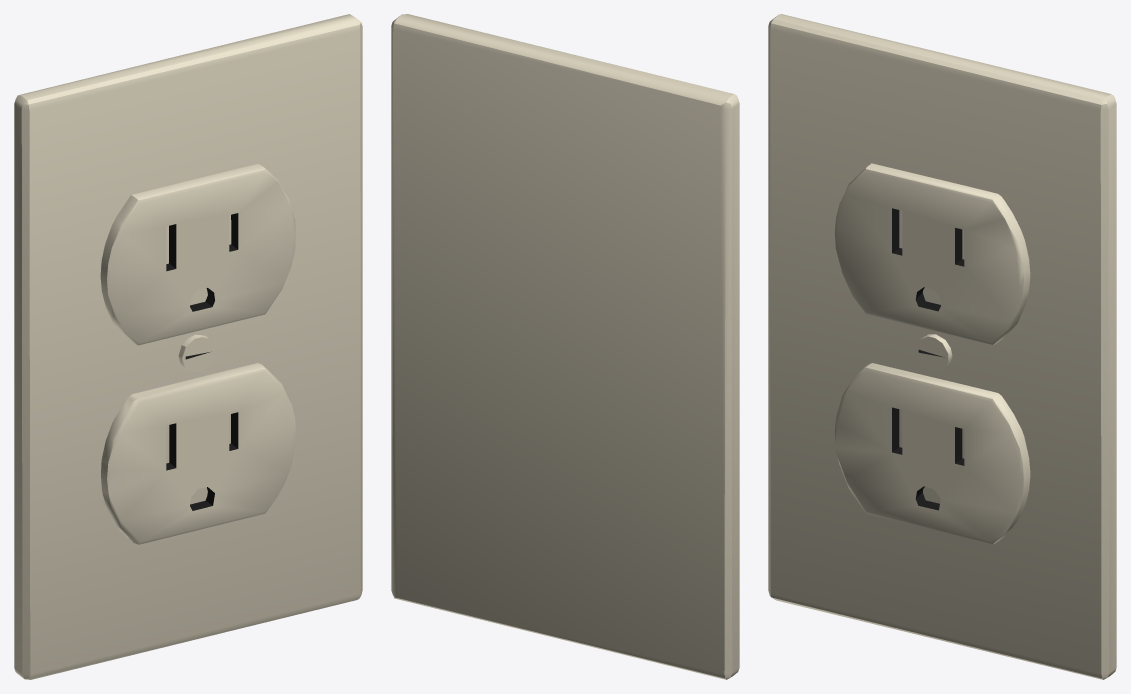
The model's file is outlet_duplex.glb.
3 renders of one model, left to right at view 1: azimuth 30°, elevation 25°; view 2: azimuth 150°, elevation 25°; view 3: azimuth 330°, elevation 25°, orthographic.
Parts seen in each view (by area): view 1: Outlet; view 2: Outlet; view 3: Outlet.
Part boxes in pixels (bbox=[...]): Outlet: bbox=[14, 14, 362, 679]; Outlet: bbox=[391, 14, 739, 679]; Outlet: bbox=[768, 14, 1116, 679].
Size of the model in its own units: 0.0698 by 0.1138 by 0.0074.
